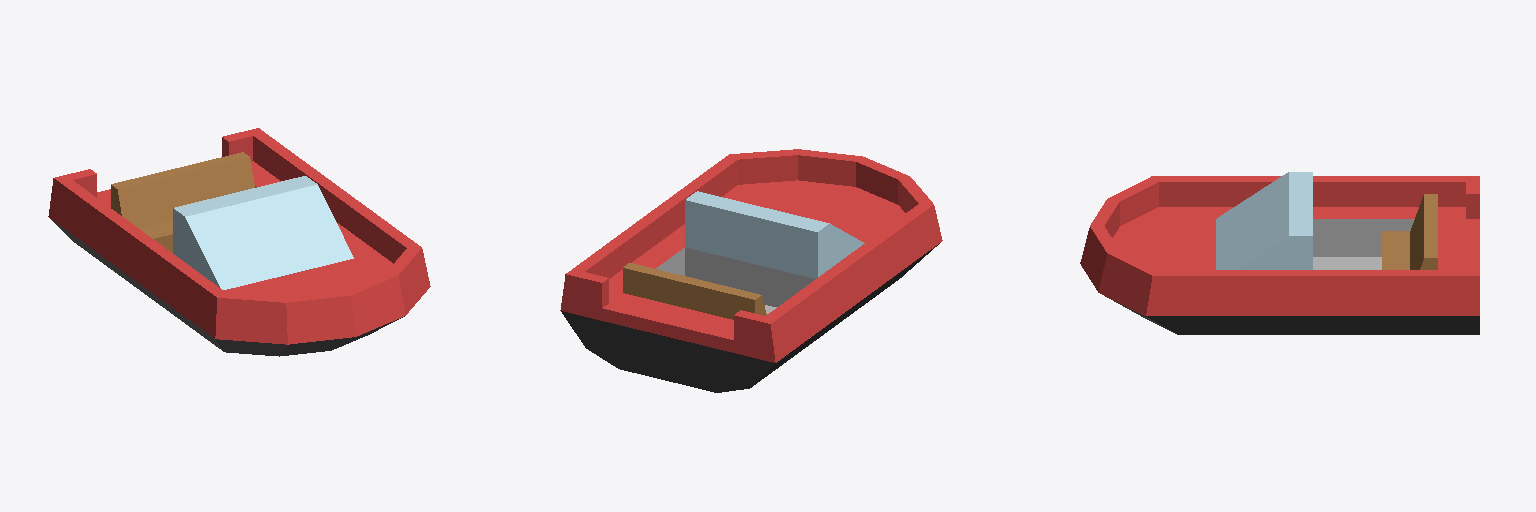
File: watercraftPack_013.obj
3 views of the same model, side by side, from view 1: azimuth 30°, elevation 25°; view 2: azimuth 150°, elevation 25°; view 3: azimuth 270°, elevation 25° (orthographic).
Parts seen in each view (by area): view 1: Mesh1 Group1 Model; view 2: Mesh1 Group1 Model; view 3: Mesh1 Group1 Model.
Boxes of the visible parts, <box> form: Mesh1 Group1 Model: <box>48,128,430,356</box>; Mesh1 Group1 Model: <box>560,149,942,392</box>; Mesh1 Group1 Model: <box>1080,172,1479,334</box>.
Bounding box in the file's own units: 1.78 × 0.8246 × 2.87.